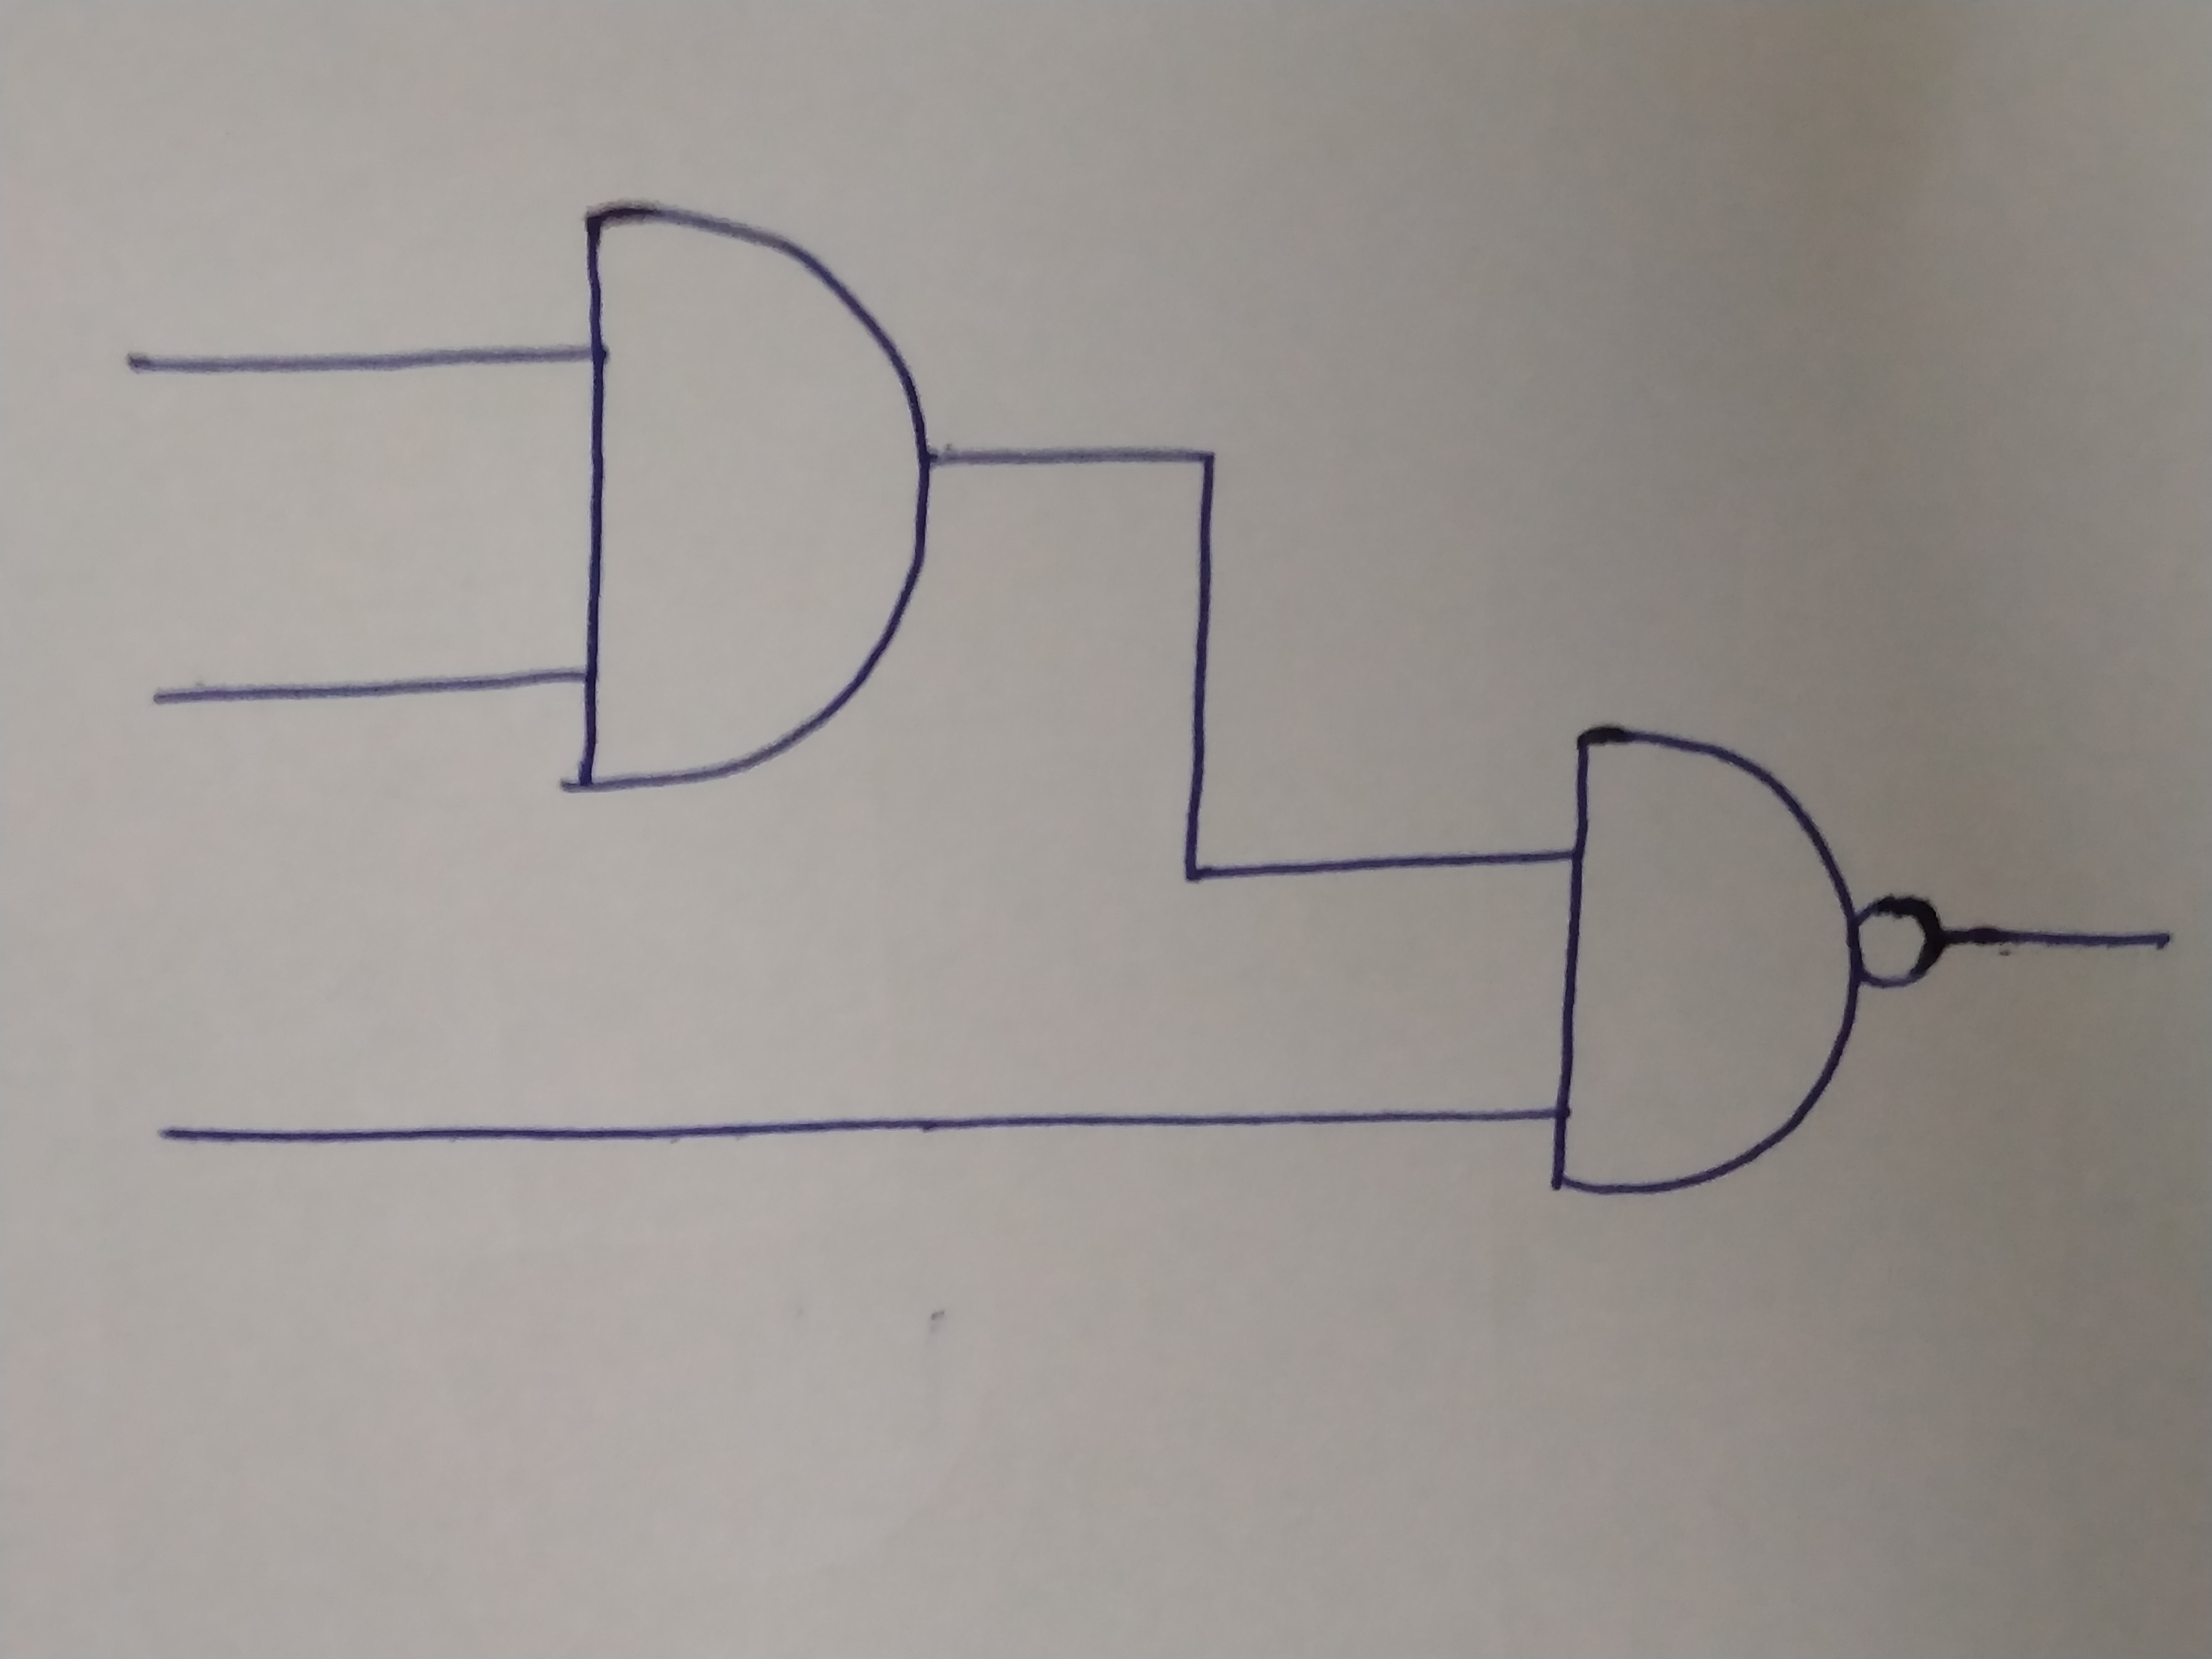and: (578, 197, 920, 784), (1550, 725, 1865, 1185)
not: (1857, 897, 1942, 988)
